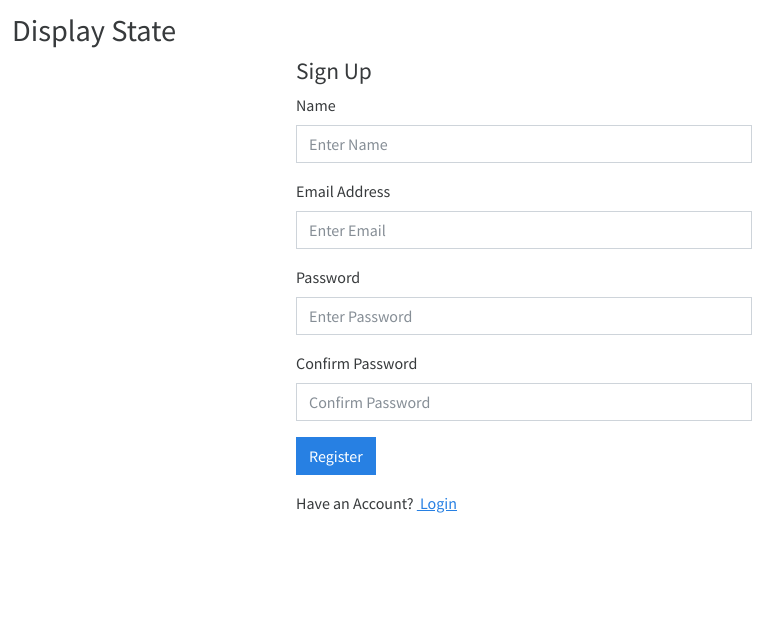
Scenario: fill form and submit › when form is submitted, dispach register and get back user from backend
This screenshot has width=769, height=635.
Type "Test User" into the field labelled "Name" at (524, 144), box [296,125,752,163]
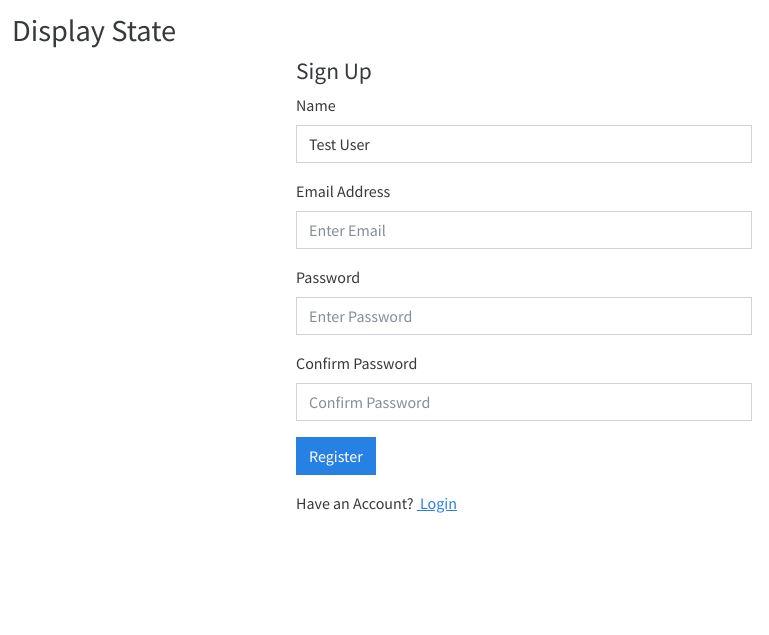
Type "test@example.com" into the field labelled "Email Address" at (524, 230), box [296,211,752,249]
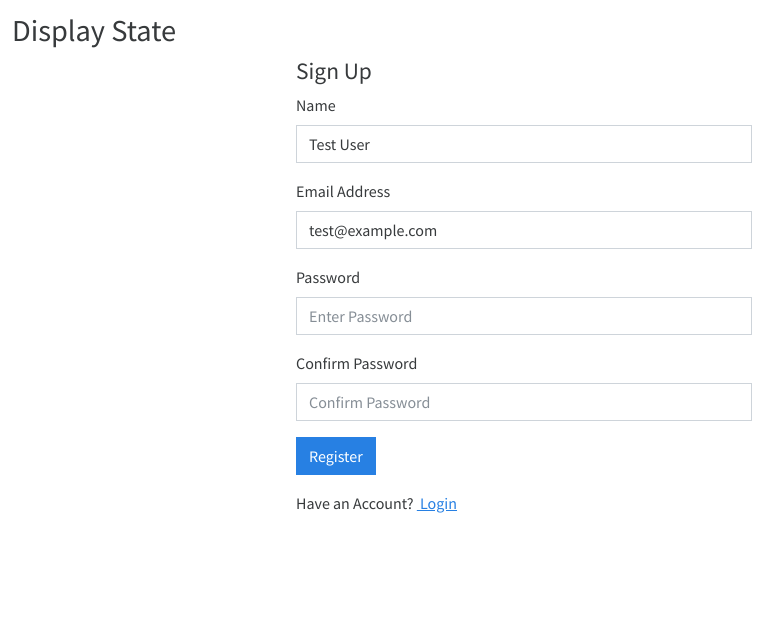
Type "123456" into the password field labelled "Password" at (524, 316), box [296,297,752,335]
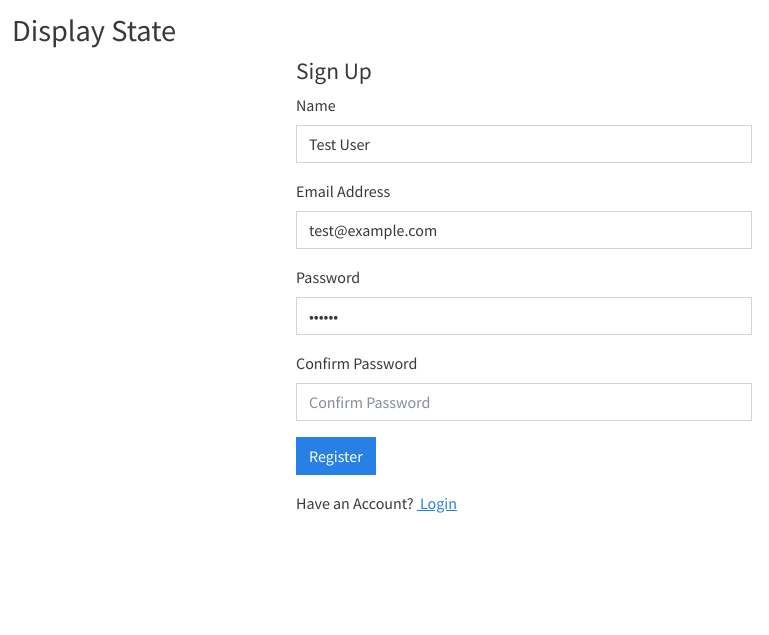
Type "123456" into the password field labelled "Confirm Password" at (524, 402), box [296,383,752,421]
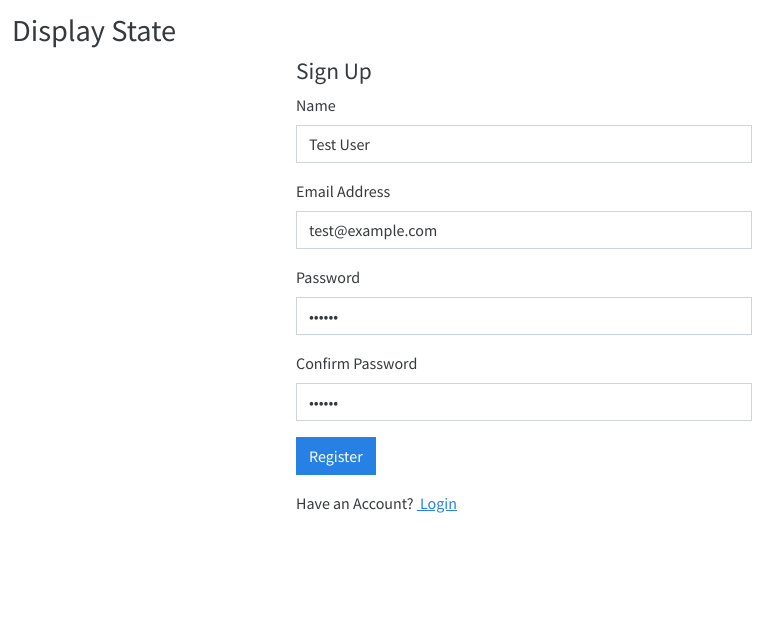
Click the button at (336, 456), box [296,437,376,475]
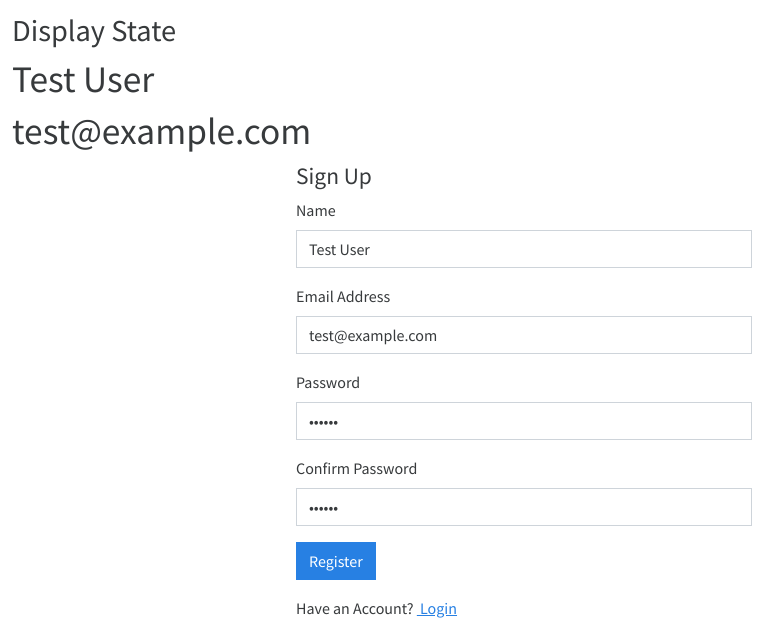
Result: the heading "test@example.com" is shown at [12,107,311,154]
